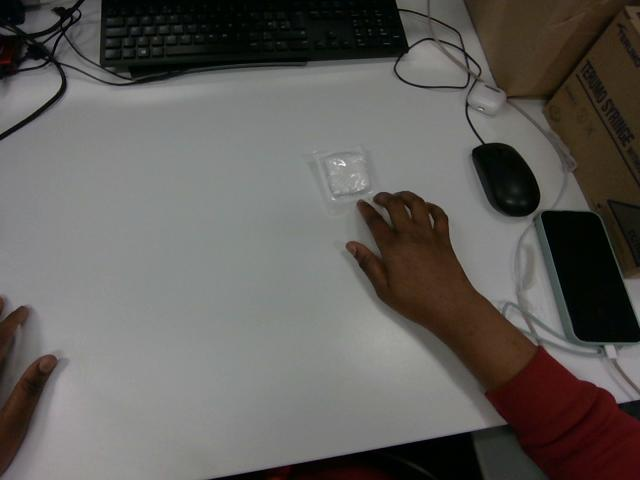gauze: (313, 147, 375, 214)
